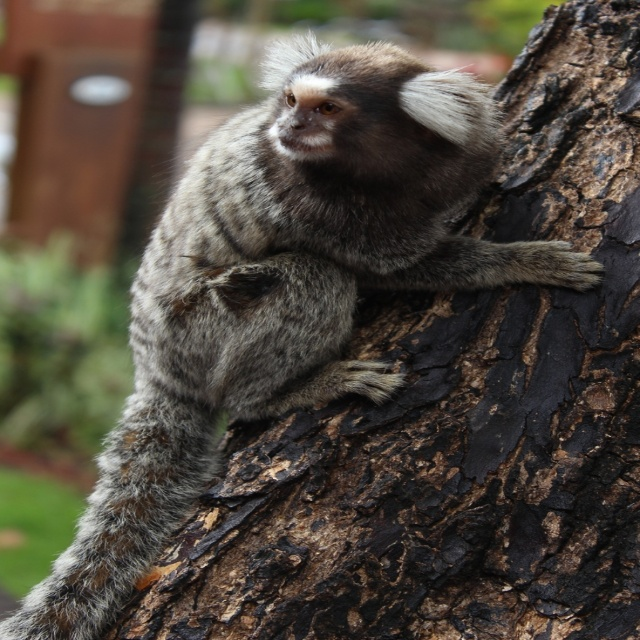Monkey: (0, 29, 605, 640)
